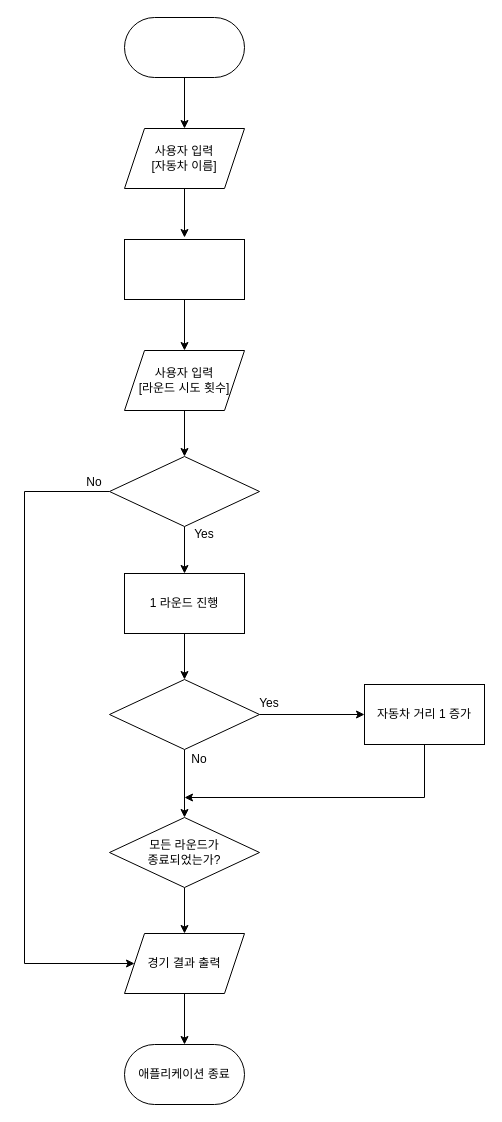
This 502x1122 diagram has some shape labels left out. The centre of each missing label's shape, as x and y in pixels:
0~9 중 랜덤 값이 4 이상인가?: pixel 184 714
애플리케이션 실행: pixel 184 47
입력한 시도 횟수가 1 이상인가?: pixel 184 491
자동차 생성: pixel 184 269
